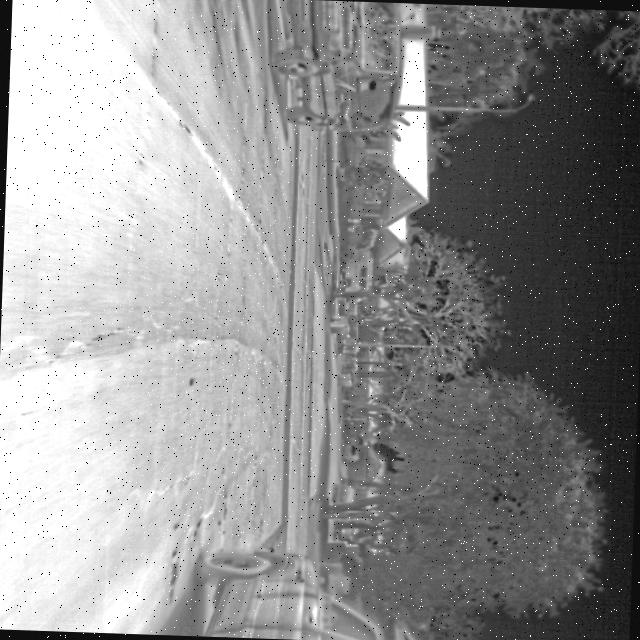Vehicle: (266, 0, 409, 137), (190, 543, 391, 640), (335, 242, 375, 304)
